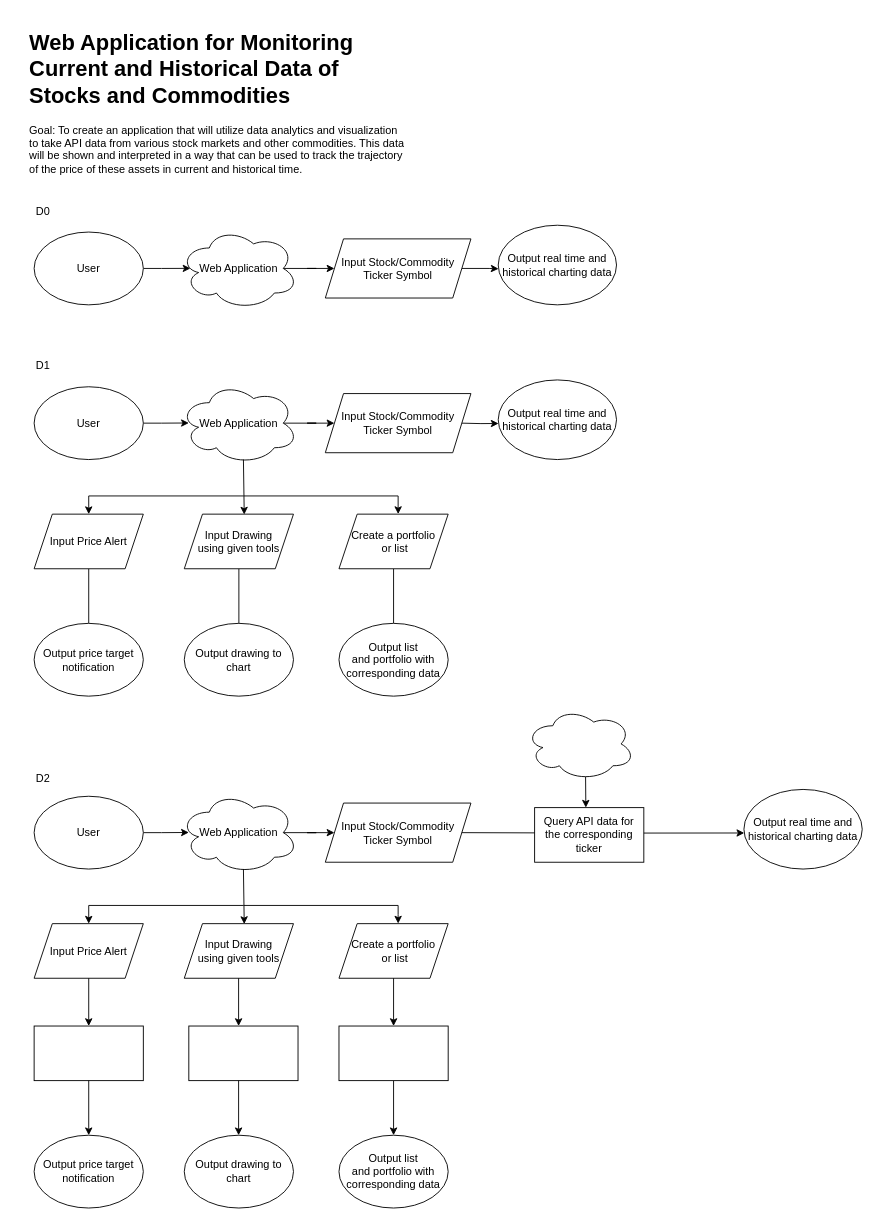
This 878x1224 diagram has some shape labels left out. The shapes that lost their labels are listed below. From the top down, each one's centre as x and y in pixels, then its label:
(x=580, y=743): API
(x=88, y=1053): Store price location and visible line create visible line indicaiton
(x=243, y=1053): Create drawing vector and color code at specific xy coordinates
(x=393, y=1053): Store ticker list and calculate sum of portfolio
